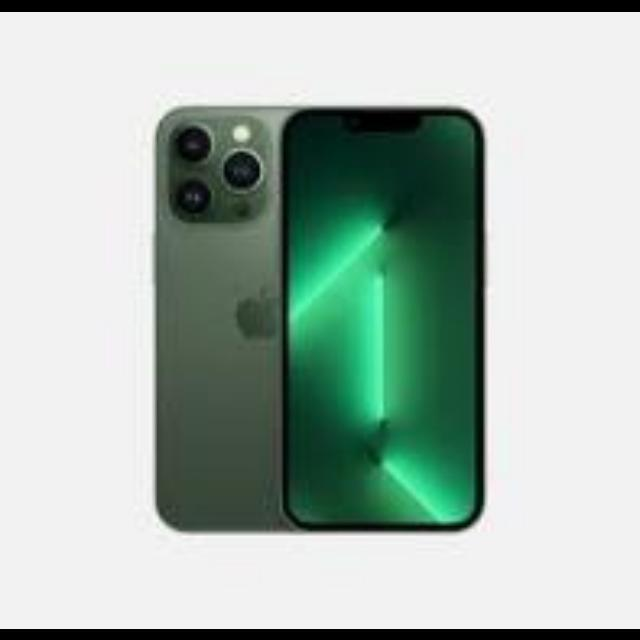Phone: (284, 100, 491, 532), (154, 104, 282, 528)
